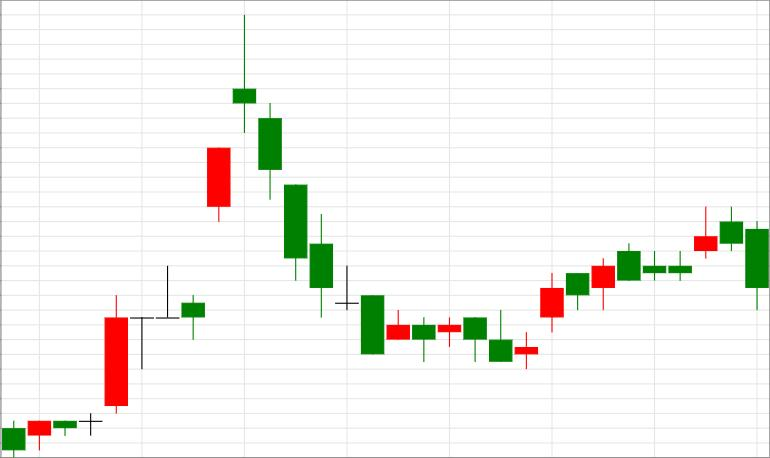evening_star_fall: (79, 15, 282, 437)
